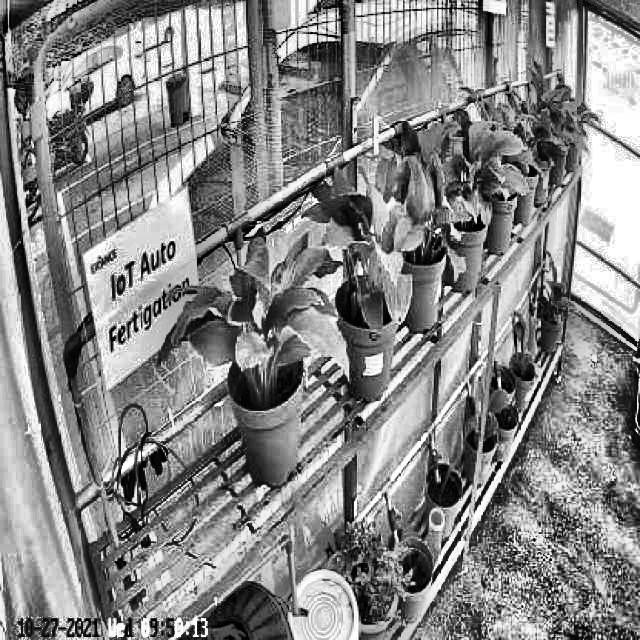plants: (154, 231, 350, 395), (310, 186, 421, 339), (396, 115, 532, 228), (368, 152, 466, 274)
